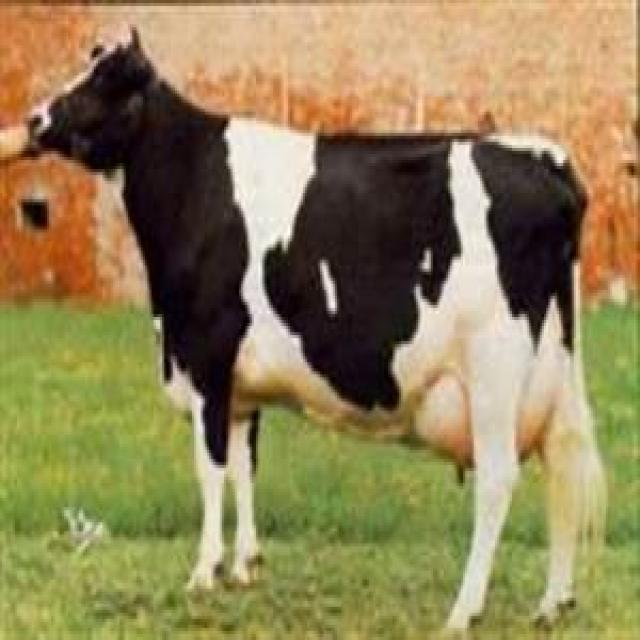cow: (28, 33, 608, 640)
